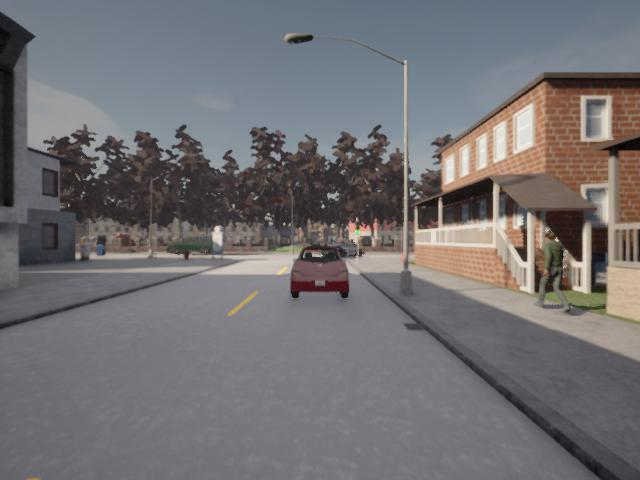9: (289, 245, 350, 298)
vehicle: (534, 233, 569, 311)
